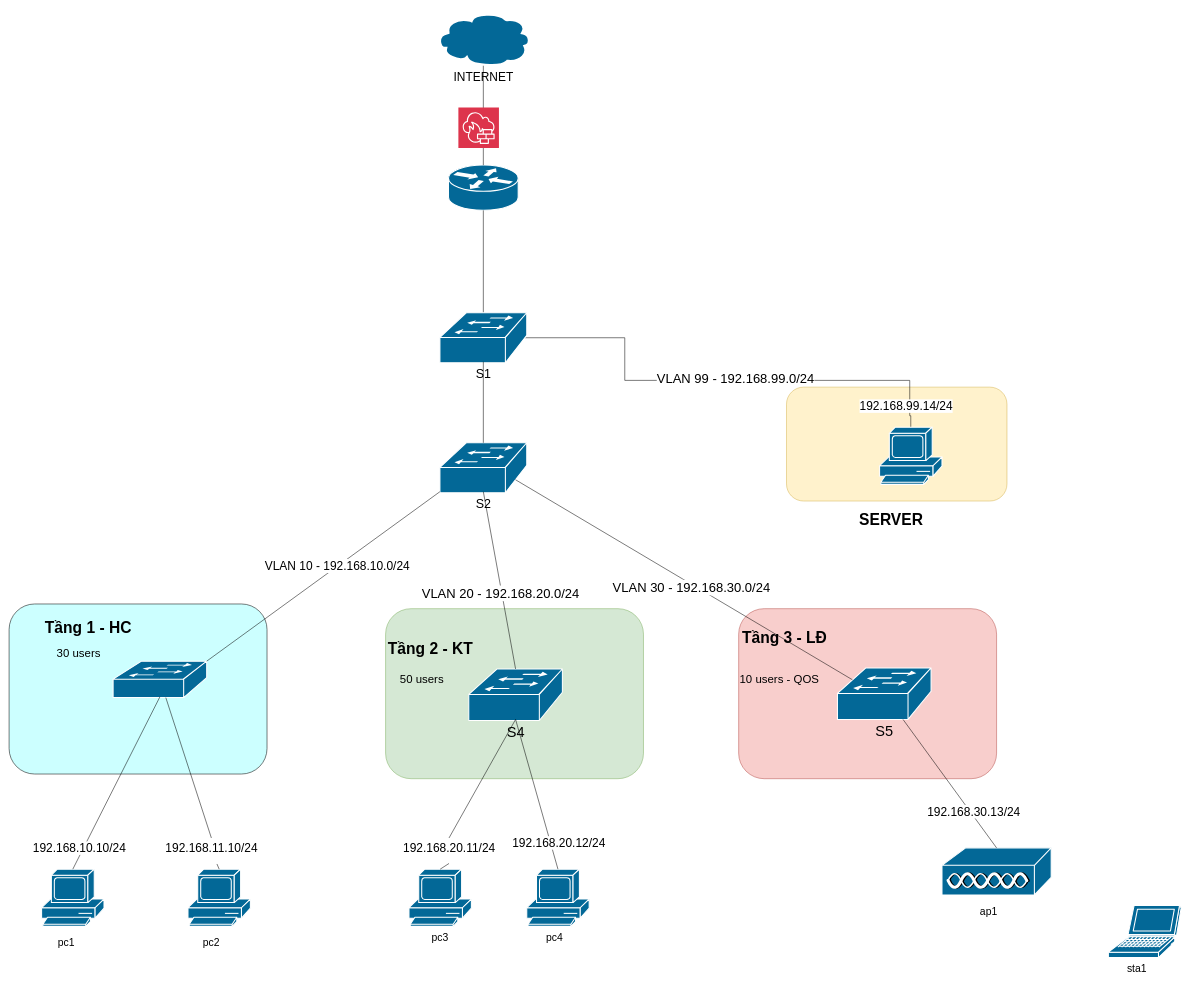
The diagram is 1191 pixels wide and 992 high, and some of its shapes have lost their labels. Here are the shapes that lost their labels. From the top down, the centre of each, then its label:
point (483, 187): R1
point (159, 679): S3
